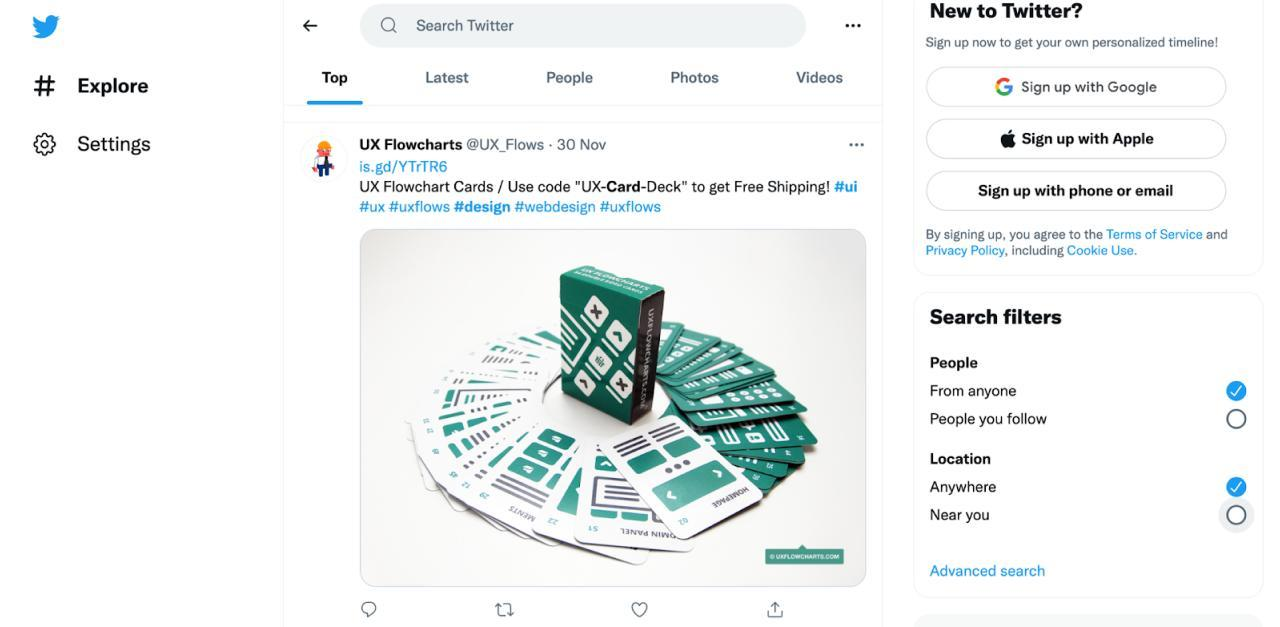button: (925, 117, 1232, 159), (926, 172, 1231, 211), (925, 69, 1229, 106)
icon: (33, 130, 60, 164), (31, 74, 59, 103), (378, 10, 401, 45), (762, 599, 794, 622), (491, 599, 519, 622), (357, 598, 381, 624), (625, 600, 654, 619), (301, 17, 325, 38), (844, 135, 868, 156), (839, 21, 867, 37)
input: (368, 2, 804, 51)
label: (924, 305, 1068, 332), (922, 1, 1091, 24), (76, 75, 164, 106), (926, 409, 1052, 429), (76, 133, 156, 158), (926, 379, 1018, 399), (796, 63, 856, 89), (416, 67, 479, 91), (928, 476, 1000, 496), (542, 68, 598, 93), (932, 506, 995, 527), (666, 65, 716, 90), (928, 449, 991, 466), (311, 68, 359, 90), (927, 353, 984, 370)
radio: (1224, 377, 1251, 402), (1224, 410, 1252, 431), (1225, 475, 1250, 498), (1226, 504, 1249, 526)
